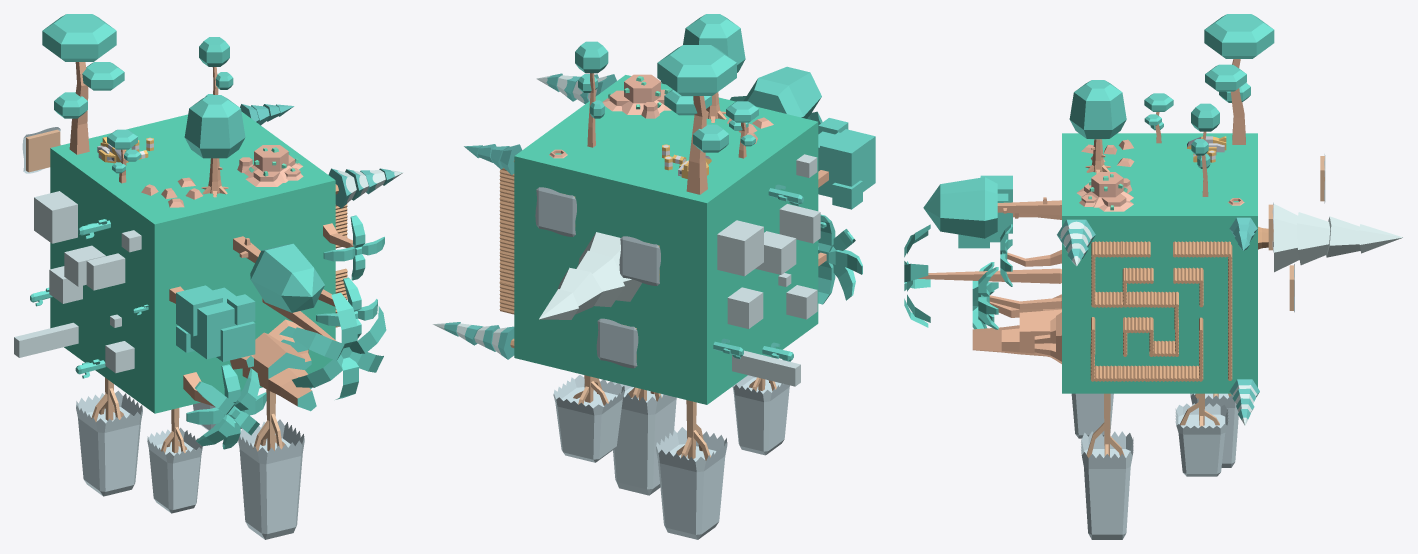
The model's file is game-world-centered.fbx.
3 renders of one model, left to right at view 1: azimuth 30°, elevation 25°; view 2: azimuth 150°, elevation 25°; view 3: azimuth 270°, elevation 25°, orthographic. The views are drawn at different scales.
Parts seen in each view (by area): view 1: pasted__cactus_short; view 2: pasted__cactus_short; view 3: pasted__cactus_short.
Part boxes in pixels (bbox=[...]): pasted__cactus_short: bbox=[14, 14, 403, 539]; pasted__cactus_short: bbox=[433, 14, 875, 539]; pasted__cactus_short: bbox=[904, 14, 1403, 539].
Size of the model in its own units: 36.2 by 51.78 by 51.5.
